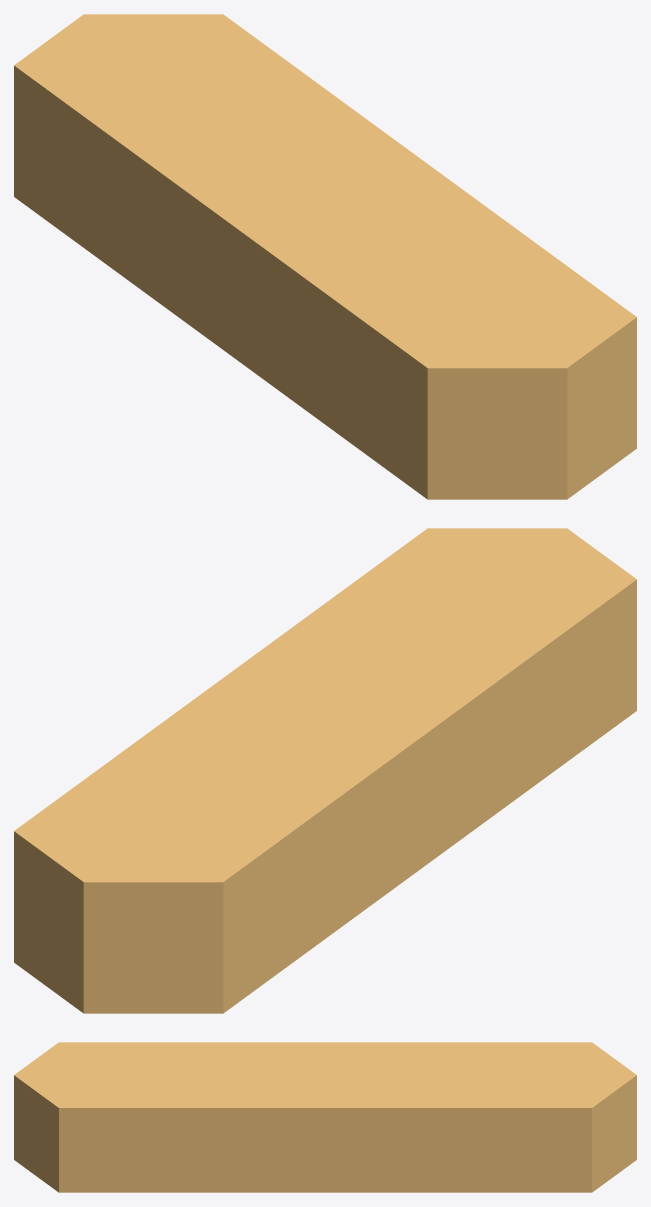
File: 2wall5.glb
3 renders of one model, top to bottom at view 1: azimuth 30°, elevation 25°; view 2: azimuth 150°, elevation 25°; view 3: azimuth 270°, elevation 25°, orthographic. The views are drawn at different scales.
Visible parts, largest first — view 1: VaromaCliff5; view 2: VaromaCliff5; view 3: VaromaCliff5.
Part boxes in pixels (<box>): VaromaCliff5: <box>14,14,636,499</box>; VaromaCliff5: <box>14,528,636,1013</box>; VaromaCliff5: <box>14,1042,636,1192</box>.
Size of the model in its own units: 0.5 by 0.3 by 2.
1 material, 1 textured.
